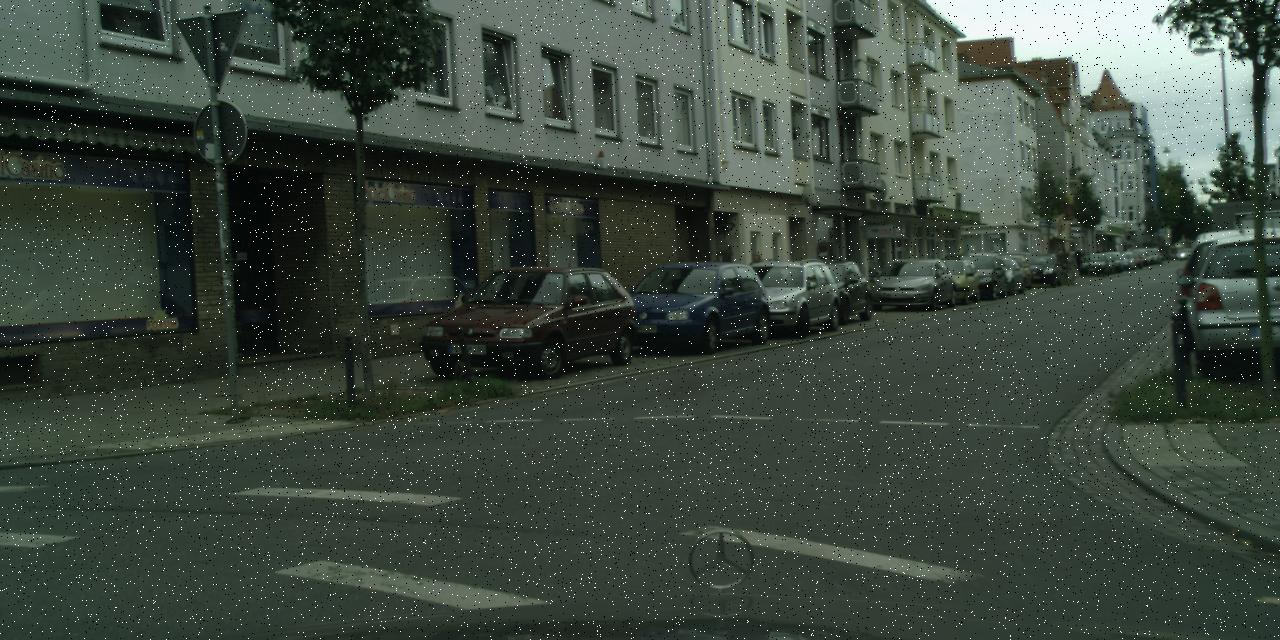ped: (1057, 247, 1084, 274)
